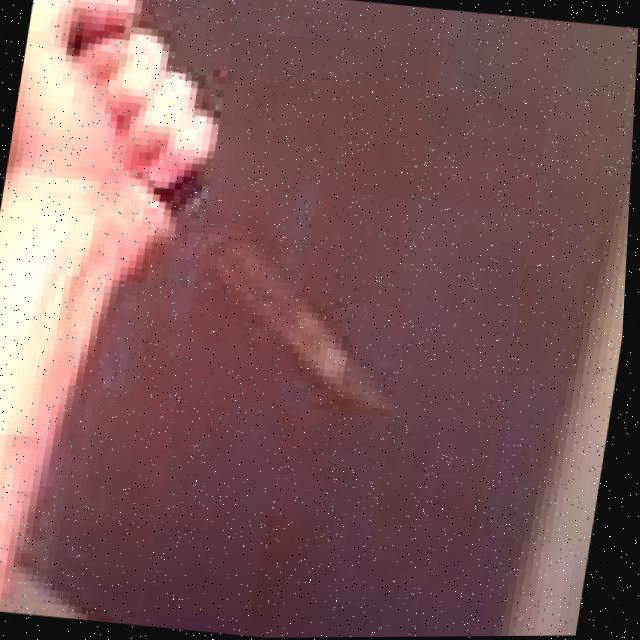knife: (137, 156, 424, 468)
